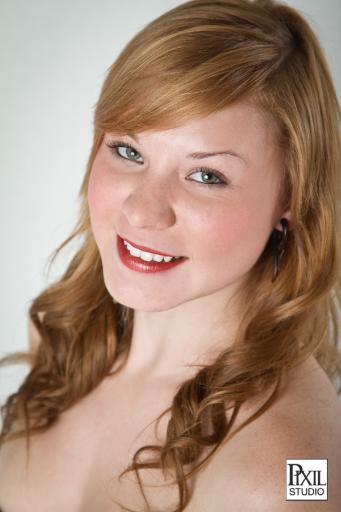left_eye: (185, 168, 231, 193)
left_lip_corner: (179, 252, 193, 270)
right_eye: (112, 142, 146, 168)
right_lip_corner: (115, 229, 125, 243)
